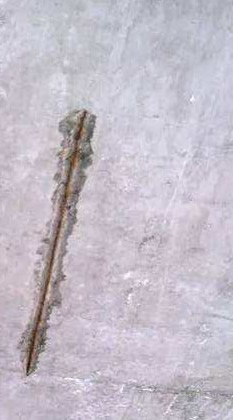Exposed reinforcement: (24, 109, 88, 375)
Spalling: (17, 107, 97, 376)
